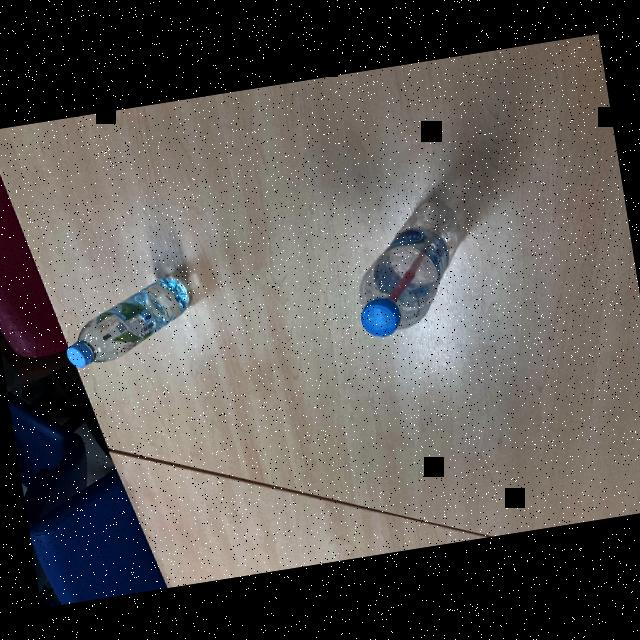plastic_bottle: (342, 194, 477, 338), (56, 272, 202, 368)
plastic_bottle_cap: (358, 296, 400, 337), (64, 339, 97, 368)
